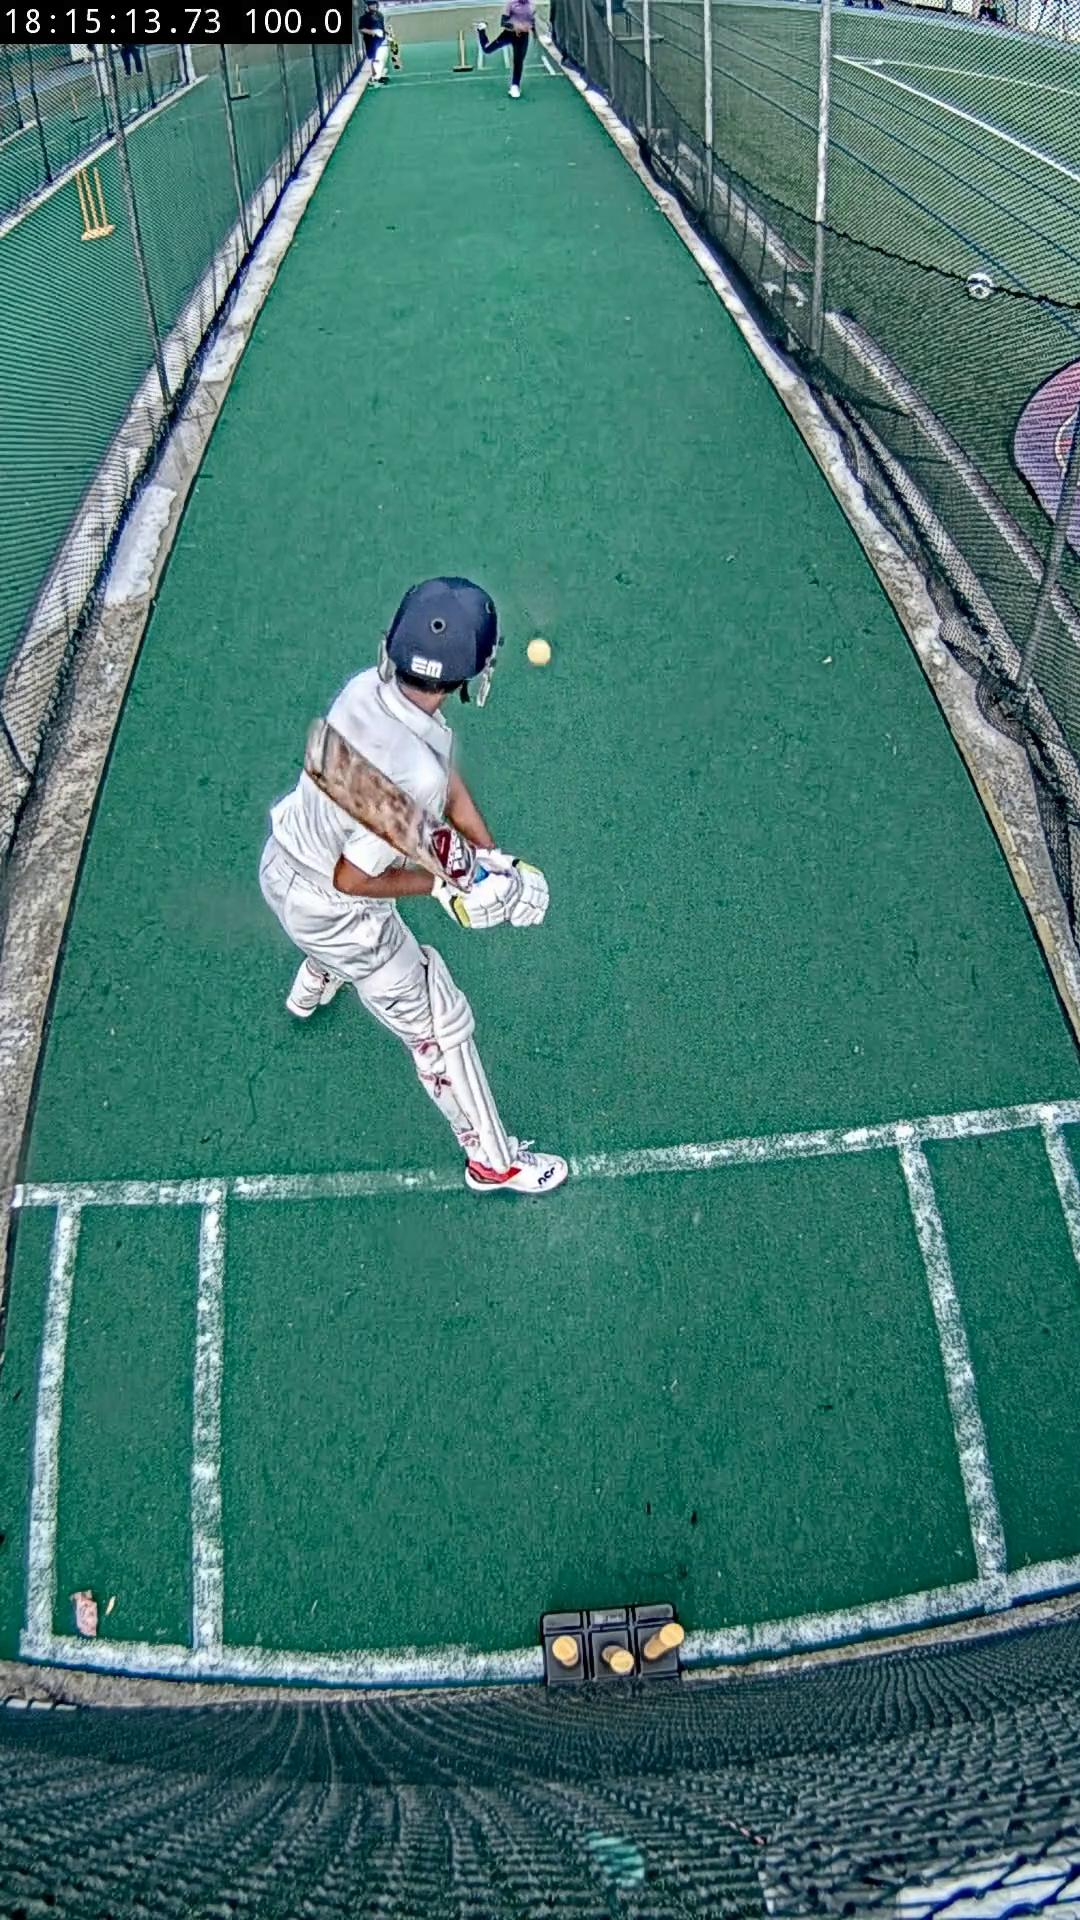ball: (525, 637, 551, 667)
bat: (303, 720, 476, 893)
gloves: (435, 848, 551, 930)
helmet: (386, 578, 498, 686)
pads: (419, 945, 517, 1170)
stumps: (541, 1605, 686, 1688)
